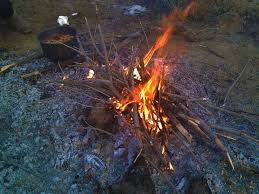wood_together: (80, 57, 202, 141)
